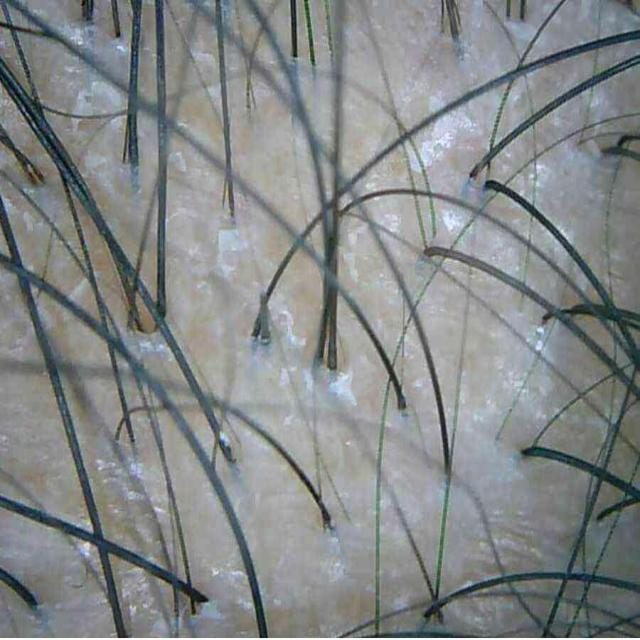d: (328, 372, 356, 406), (218, 228, 242, 253)
ds: (414, 111, 470, 172), (201, 559, 251, 614), (68, 74, 122, 114), (25, 173, 68, 222), (49, 21, 98, 64), (269, 303, 306, 348), (122, 331, 174, 362), (340, 225, 366, 283), (502, 16, 536, 48), (109, 32, 133, 63), (68, 119, 109, 136), (441, 208, 468, 233), (528, 161, 546, 191), (406, 142, 420, 172), (534, 325, 546, 355)
o: (90, 446, 168, 536), (122, 564, 170, 635)
